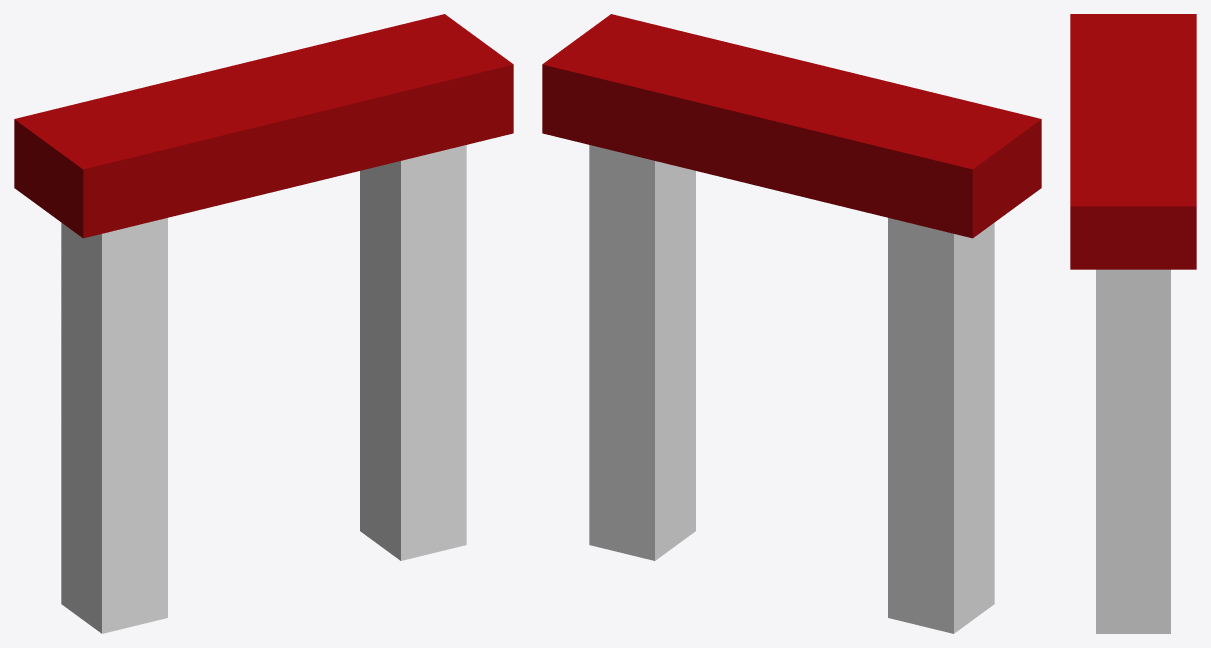
Rendered from lever.obj.
3 renders of one model, left to right at view 1: azimuth 30°, elevation 25°; view 2: azimuth 150°, elevation 25°; view 3: azimuth 270°, elevation 25°, orthographic. The views are drawn at different scales.
Visible parts, largest first — view 1: Cube.002; view 2: Cube.002; view 3: Cube.002.
Boxes of the visible parts, box(x1,y1,x2,y2) form: Cube.002: box(14, 14, 513, 633); Cube.002: box(542, 14, 1041, 633); Cube.002: box(1070, 14, 1196, 633).
Bounding box in the file's own units: 1.28 × 1.37 × 0.3552.
